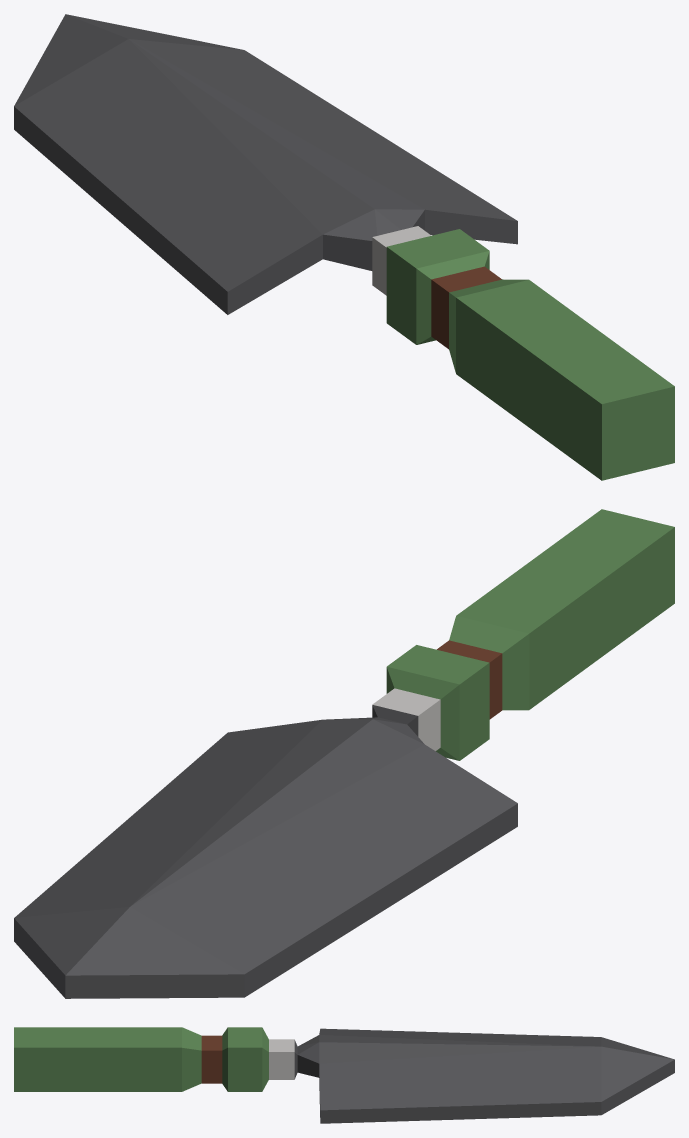
File: SM_Item_Garden_Trowel_02.fbx
3 renders of one model, top to bottom at view 1: azimuth 30°, elevation 25°; view 2: azimuth 150°, elevation 25°; view 3: azimuth 270°, elevation 25°, orthographic. The views are drawn at different scales.
Parts seen in each view (by area): view 1: SM_Item_Garden_Trowel_02; view 2: SM_Item_Garden_Trowel_02; view 3: SM_Item_Garden_Trowel_02.
Part boxes in pixels (x1,y1,x2,y2): SM_Item_Garden_Trowel_02: [14, 14, 674, 480]; SM_Item_Garden_Trowel_02: [14, 509, 674, 998]; SM_Item_Garden_Trowel_02: [14, 1027, 674, 1123].
Bounding box in the file's own units: 13.61 × 3.53 × 46.54.
